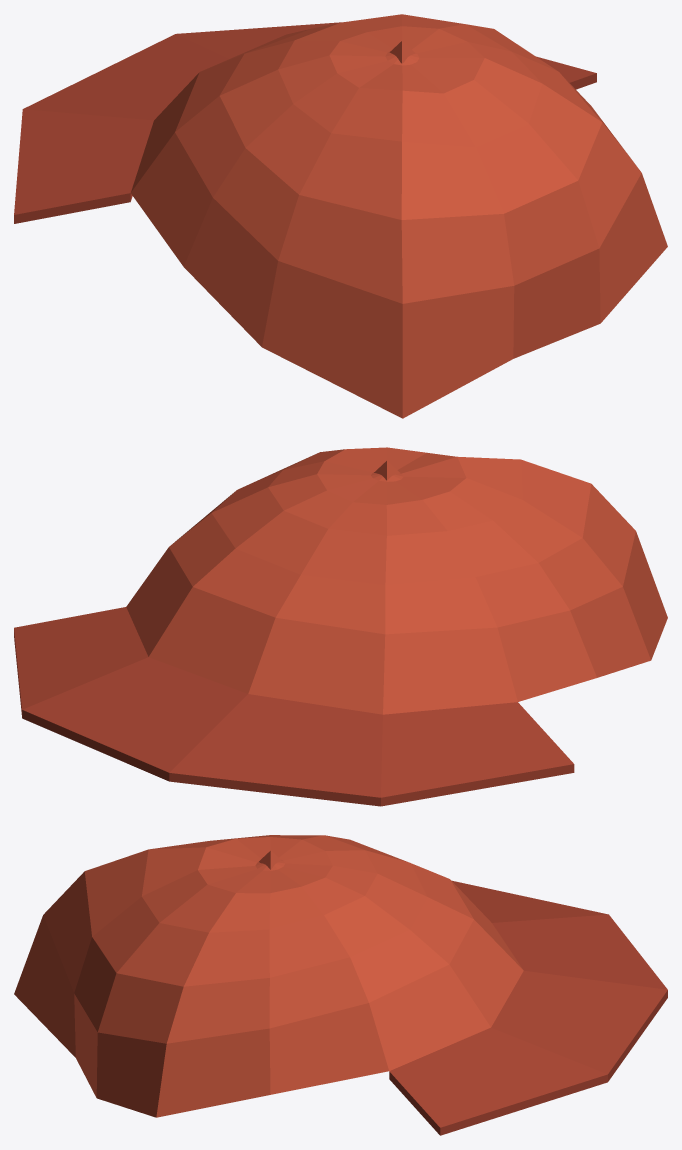
File: lwf_hat_cap_female_v1.glb
3 views of the same model, one above another, from view 1: azimuth 30°, elevation 25°; view 2: azimuth 150°, elevation 25°; view 3: azimuth 270°, elevation 25° (orthographic). The views are drawn at different scales.
Visible parts, largest first — view 1: LWF_Hat_Cap; view 2: LWF_Hat_Cap; view 3: LWF_Hat_Cap.
Boxes of the visible parts, bbox=[...] form: LWF_Hat_Cap: bbox=[14, 14, 667, 418]; LWF_Hat_Cap: bbox=[14, 447, 667, 806]; LWF_Hat_Cap: bbox=[14, 835, 667, 1135].
Size of the model in its own units: 0.3356 by 0.1303 by 0.3719.
1 material, 1 textured.
